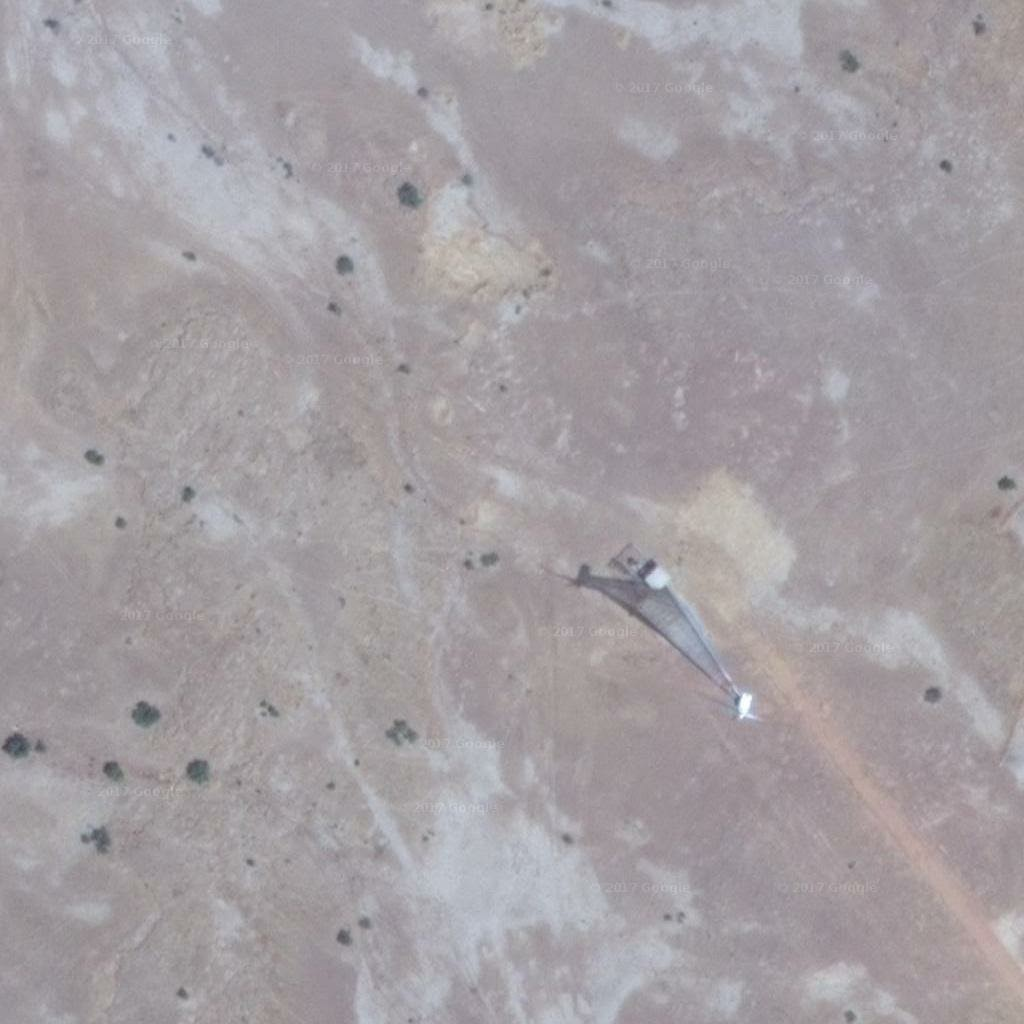Windmill: (539, 548, 750, 701)
